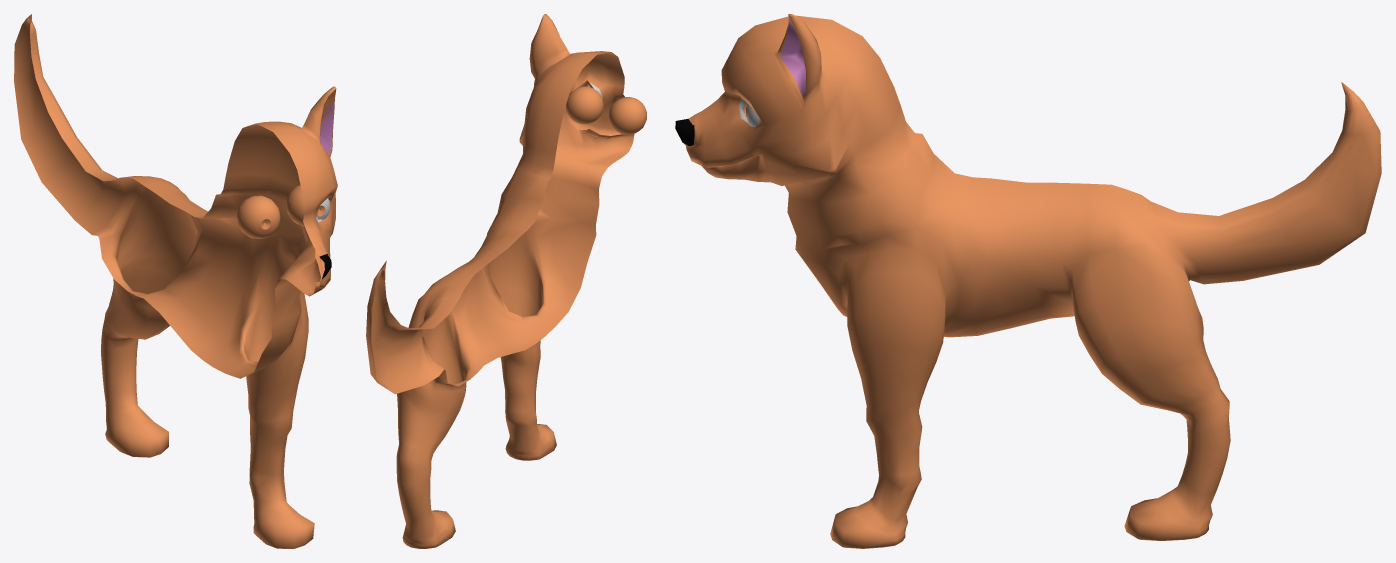
Rendered from doggie.dae.
3 renders of one model, left to right at view 1: azimuth 30°, elevation 25°; view 2: azimuth 150°, elevation 25°; view 3: azimuth 270°, elevation 25°, orthographic. The views are drawn at different scales.
Visible parts, largest first — view 1: Plane; view 2: Plane; view 3: Plane.
Boxes of the visible parts, left/top/right/bottom form: Plane: left=14, top=14, right=337, bottom=548; Plane: left=366, top=14, right=646, bottom=548; Plane: left=675, top=14, right=1381, bottom=548.
Bounding box in the file's own units: 0.1726 × 0.7941 × 0.663.
